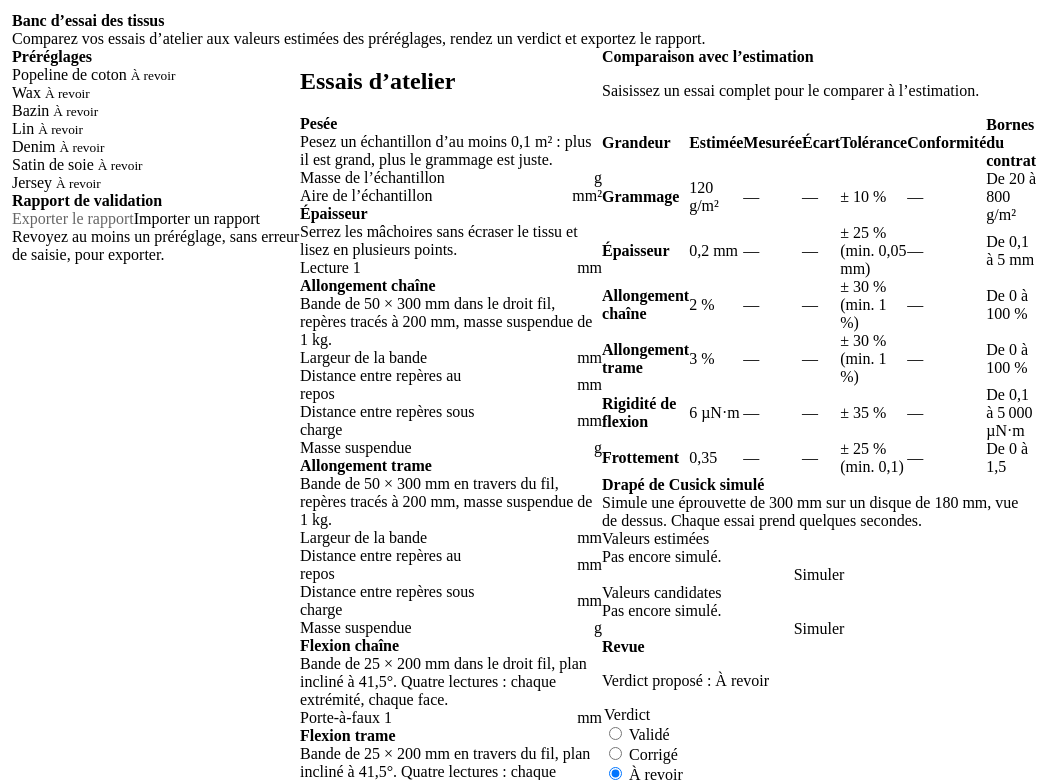
Test: banc d’essai des tissus : essais saisis › champ hors bornes : l’erreur donne les bornes du contrat, avec leur unité
This screenshot has width=1048, height=780.
Type "5000" into the number field labelled "Masse de l’échantillon" at x=542, y=178, box [494, 169, 590, 187]
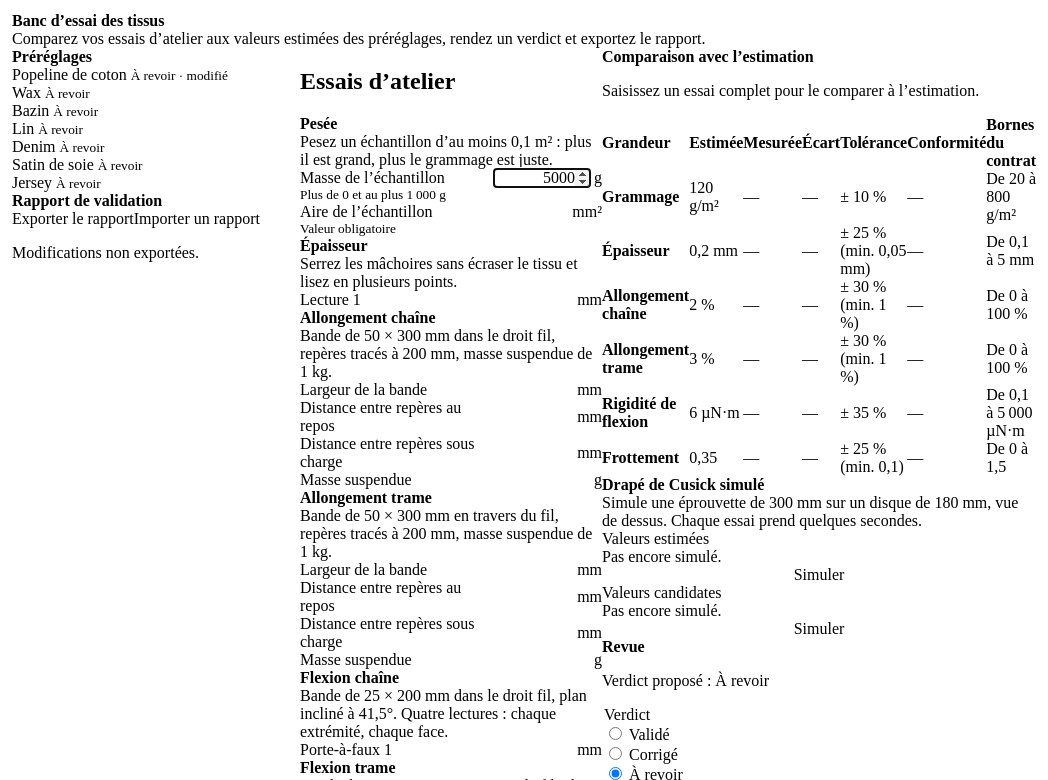
Now the message "Plus de 0 et au plus 1 000 g" is shown, box [300, 187, 446, 202]
